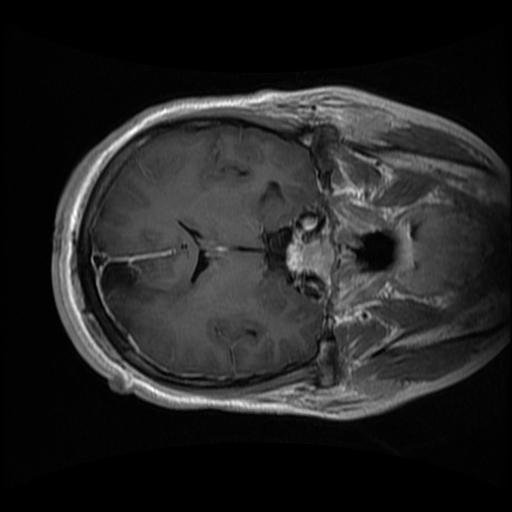glioma: (96, 256, 154, 304)
